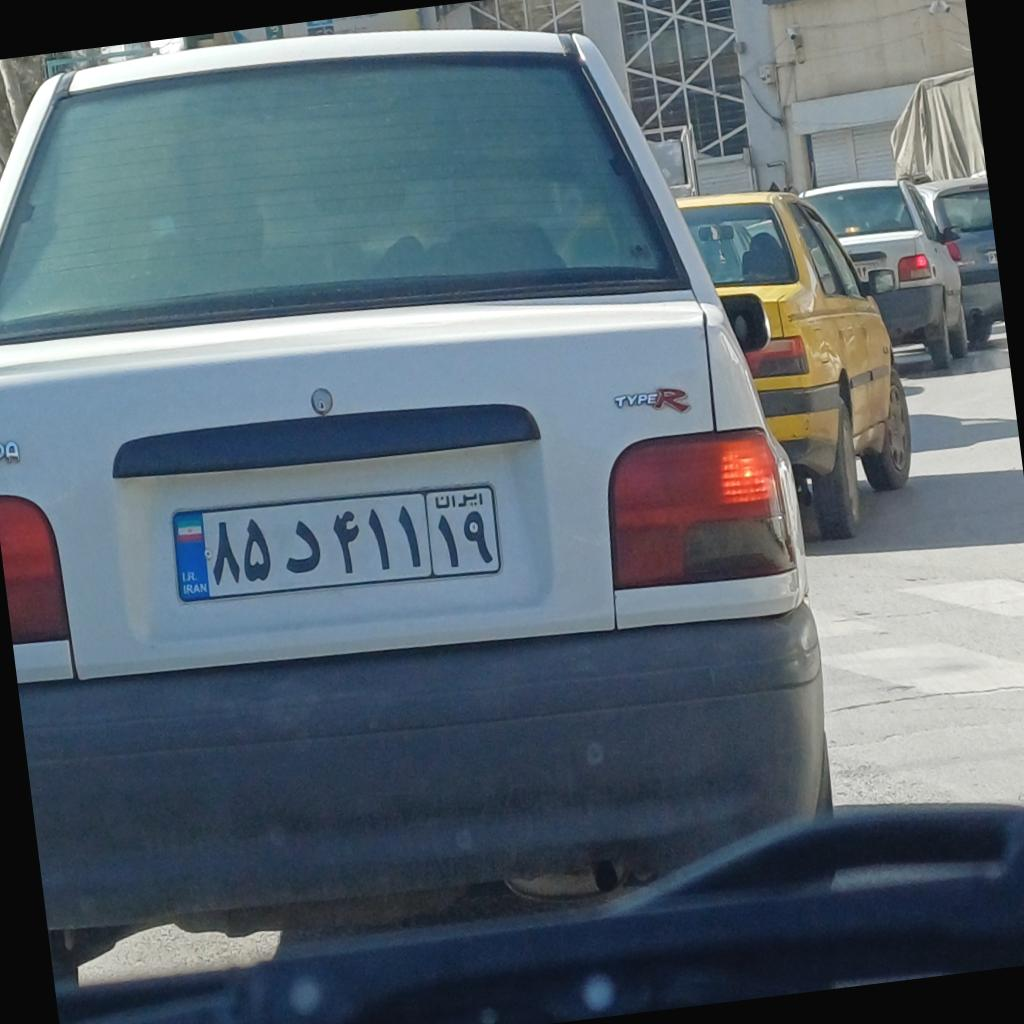Plates: (168, 470, 502, 608)
